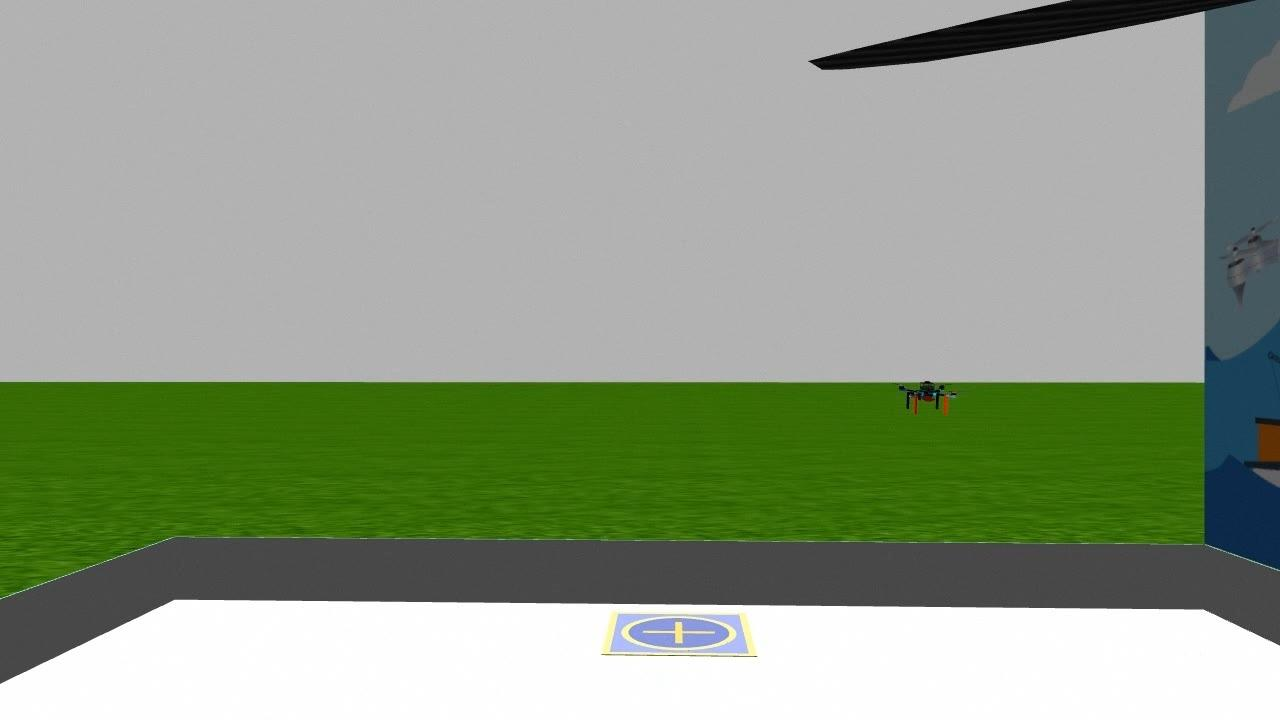UAV: (890, 372, 964, 422)
